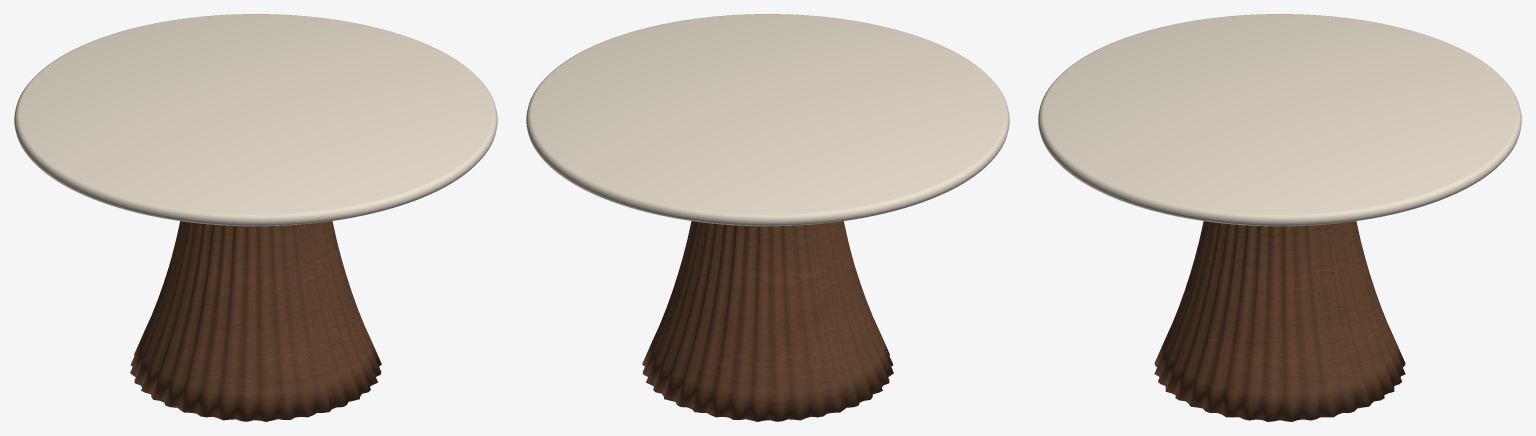
File: mesa_jantar_lua.glb
The picture shows the model from 3 angles, left to right: view 1: azimuth 30°, elevation 25°; view 2: azimuth 150°, elevation 25°; view 3: azimuth 270°, elevation 25°; orthographic projection.
Visible parts, largest first — view 1: Tampo, Pedestal; view 2: Tampo, Pedestal; view 3: Tampo, Pedestal.
Boxes of the visible parts, x1,y1,x2,y2 form: Tampo: [14, 14, 497, 226]; Pedestal: [130, 221, 381, 421]; Tampo: [526, 14, 1009, 226]; Pedestal: [642, 221, 893, 421]; Tampo: [1038, 14, 1521, 226]; Pedestal: [1154, 221, 1405, 421].
Size of the model in its own units: 1.3 by 0.755 by 1.3.
2 materials, 1 textured.
